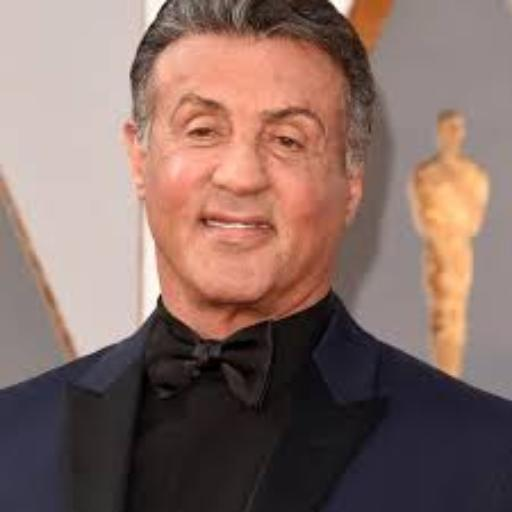left_eye: (268, 135, 307, 156)
left_lip_corner: (266, 220, 284, 240)
right_eye: (182, 124, 225, 144)
right_lip_corner: (192, 211, 213, 234)
